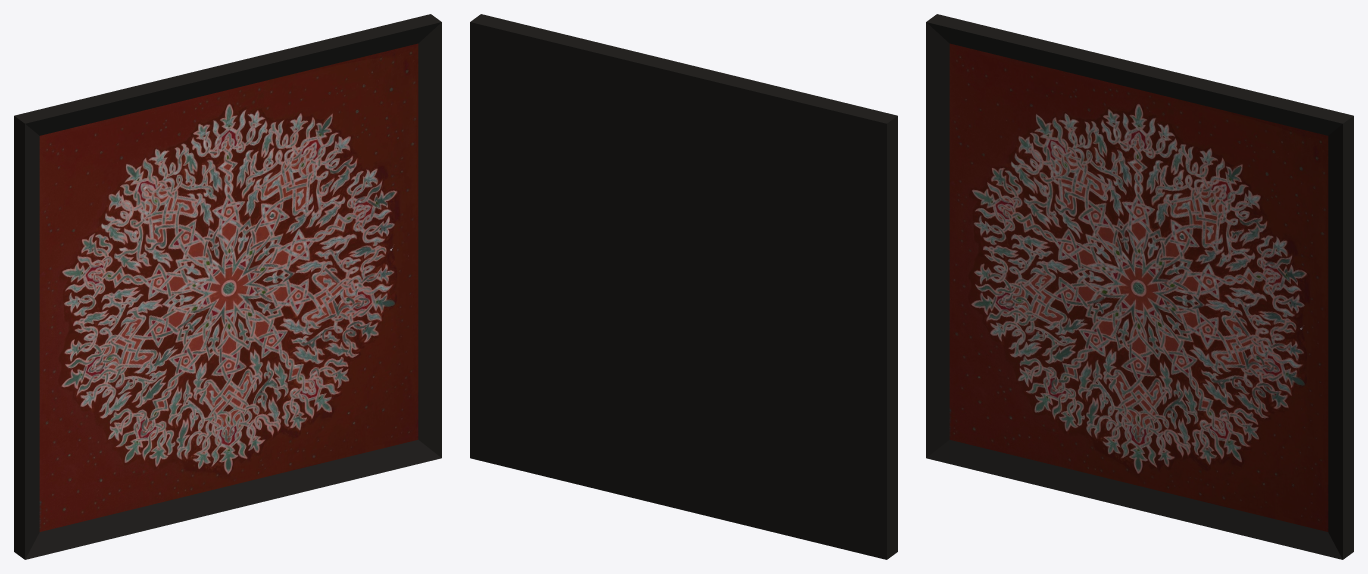
File: slipper-orchids-orchids30-garnet-red-a1-stained-black-v2.glb
3 renders of one model, left to right at view 1: azimuth 30°, elevation 25°; view 2: azimuth 150°, elevation 25°; view 3: azimuth 330°, elevation 25°, orthographic.
Parts seen in each view (by area): view 1: FramedPrint; view 2: FramedPrint; view 3: FramedPrint.
Part boxes in pixels (bbox=[...]): FramedPrint: bbox=[14, 14, 441, 559]; FramedPrint: bbox=[470, 14, 897, 559]; FramedPrint: bbox=[926, 14, 1353, 559].
Size of the model in its own units: 0.655 by 0.655 by 0.03.
Materials: 2 (1 with a texture image).
